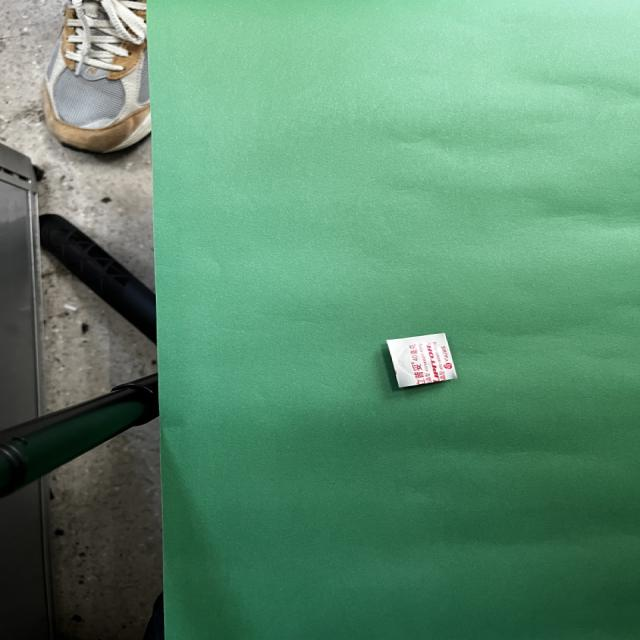Other Objects: (386, 333, 456, 388)
